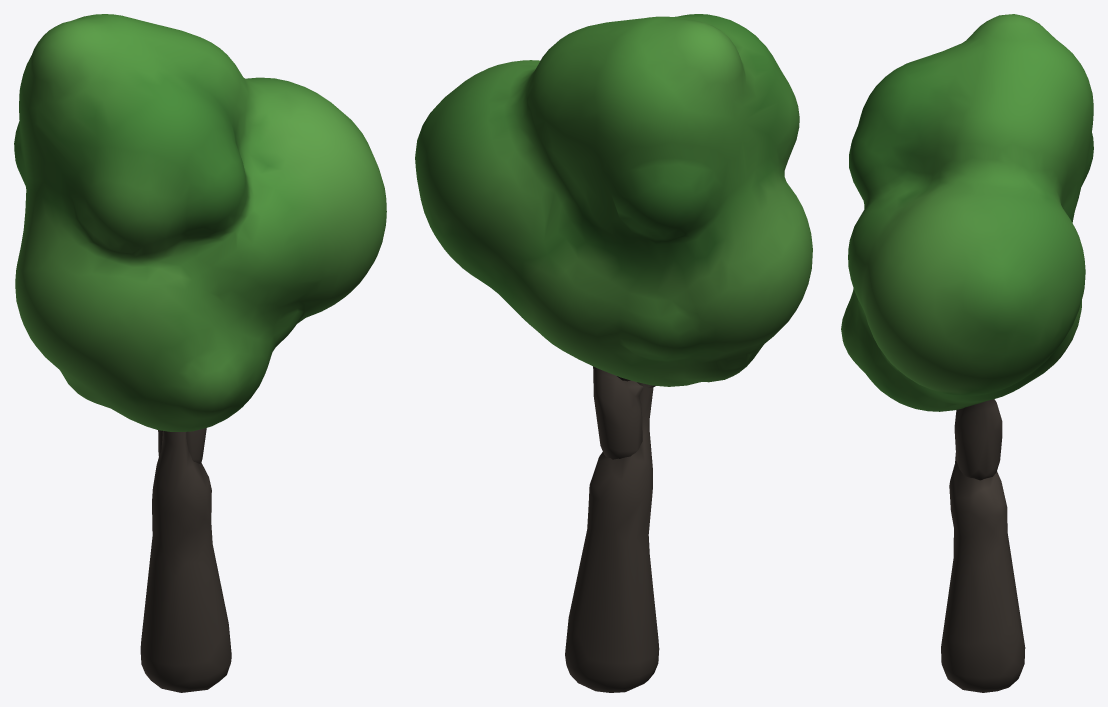
Rendered from tree_06_3.glb.
3 views of the same model, side by side, from view 1: azimuth 30°, elevation 25°; view 2: azimuth 150°, elevation 25°; view 3: azimuth 270°, elevation 25° (orthographic). The views are drawn at different scales.
Visible parts, largest first — view 1: canopy, bark; view 2: canopy, bark; view 3: canopy, bark.
Boxes of the visible parts, x1,y1,x2,y2 form: canopy: (14, 14, 386, 431); bark: (140, 428, 231, 692); canopy: (415, 14, 812, 386); bark: (565, 366, 659, 692); canopy: (841, 14, 1093, 411); bark: (941, 399, 1025, 692).
Size of the model in its own units: 1.79 by 3.31 by 1.21.
